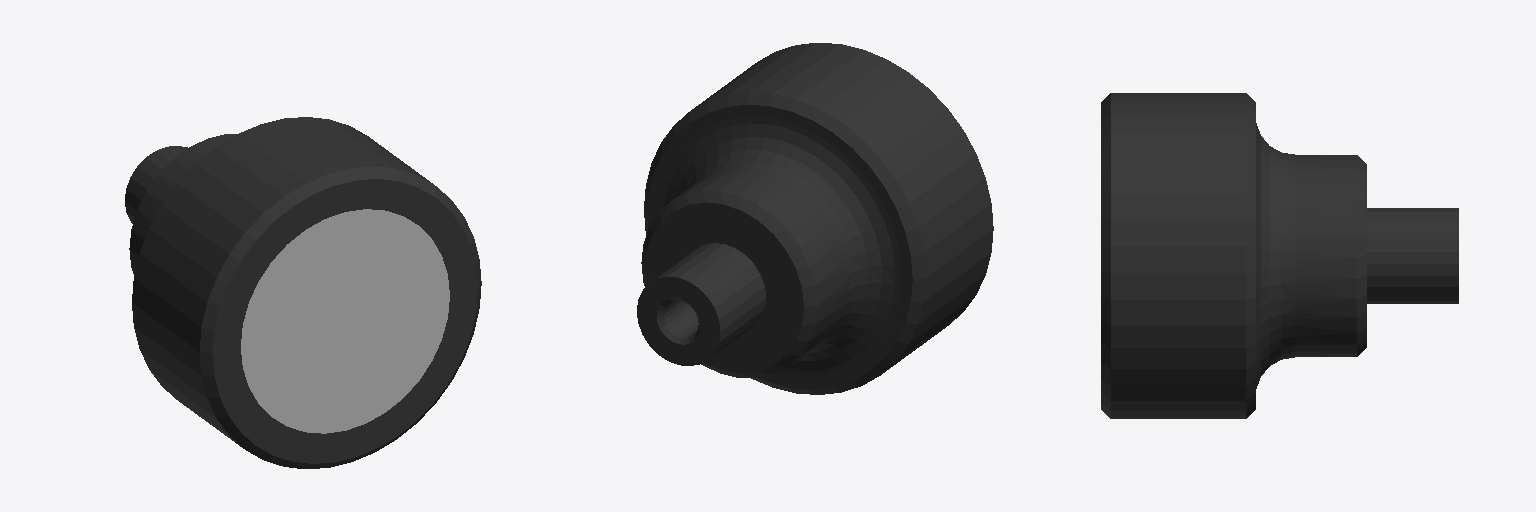
The picture shows the model from 3 angles: view 1: azimuth 30°, elevation 25°; view 2: azimuth 150°, elevation 25°; view 3: azimuth 270°, elevation 25°; orthographic projection.
Visible parts, largest first — view 1: gn_3663-34-m5-1_1; view 2: gn_3663-34-m5-1_1; view 3: gn_3663-34-m5-1_1.
Part boxes in pixels (left/top/right/bottom): gn_3663-34-m5-1_1: left=125, top=117, right=481, bottom=468; gn_3663-34-m5-1_1: left=637, top=43, right=993, bottom=394; gn_3663-34-m5-1_1: left=1101, top=93, right=1458, bottom=418.
Bounding box in the file's own units: 33.7 × 33.58 × 37.